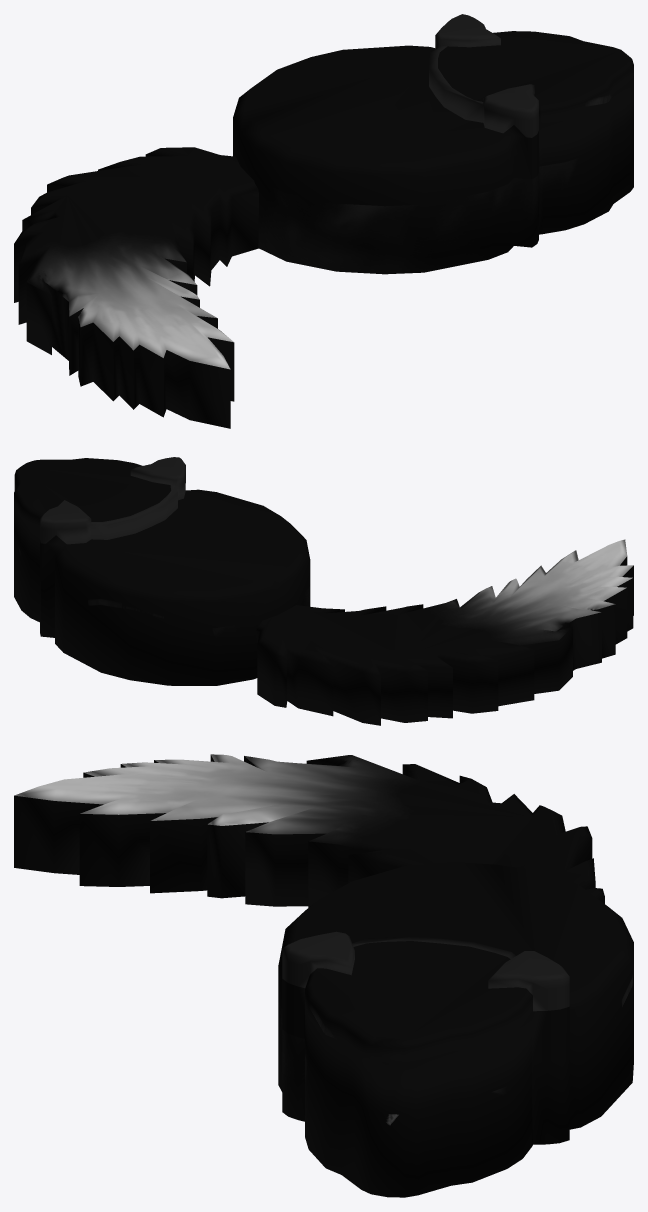
The model's file is Luna_sjedi.fbx.
3 renders of one model, top to bottom at view 1: azimuth 30°, elevation 25°; view 2: azimuth 150°, elevation 25°; view 3: azimuth 270°, elevation 25°, orthographic. The views are drawn at different scales.
Visible parts, largest first — view 1: Luna_sjedi; view 2: Luna_sjedi; view 3: Luna_sjedi.
Boxes of the visible parts, left/top/right/bottom form: Luna_sjedi: left=14, top=14, right=633, bottom=428; Luna_sjedi: left=14, top=457, right=633, bottom=725; Luna_sjedi: left=14, top=754, right=633, bottom=1197.
Size of the model in its own units: 28.95 by 6.12 by 20.43.
Materials: 2 (1 with a texture image).
